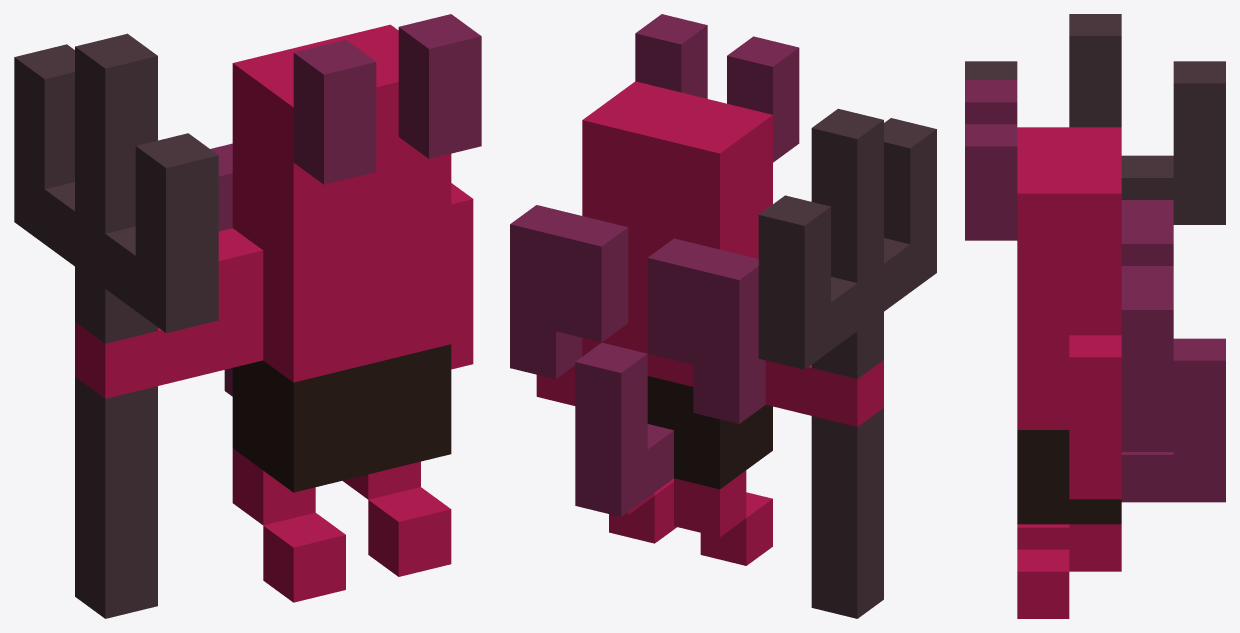
The model's file is imp_idle_0.obj.
3 renders of one model, left to right at view 1: azimuth 30°, elevation 25°; view 2: azimuth 150°, elevation 25°; view 3: azimuth 270°, elevation 25°, orthographic. The views are drawn at different scales.
Bounding box in the file's own units: 0.7 × 1 × 0.5.
Materials: 1 (1 with a texture image).
